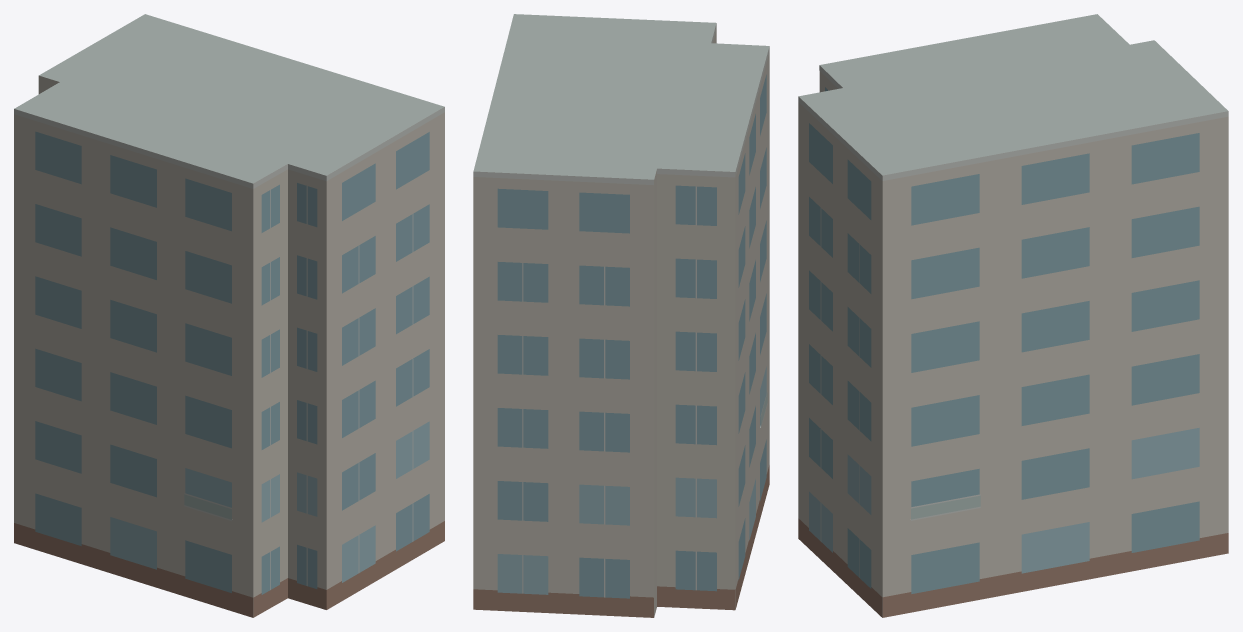
Rendered from survey-upis-32842401.glb.
3 views of the same model, side by side, from view 1: azimuth 30°, elevation 25°; view 2: azimuth 150°, elevation 25°; view 3: azimuth 270°, elevation 25° (orthographic).
Visible parts, largest first — view 1: survey-upis-32842401.tmp; view 2: survey-upis-32842401.tmp; view 3: survey-upis-32842401.tmp.
Boxes of the visible parts, <box> form: survey-upis-32842401.tmp: <box>14,14,444,617</box>; survey-upis-32842401.tmp: <box>473,14,769,617</box>; survey-upis-32842401.tmp: <box>798,14,1228,617</box>.
Bounding box in the file's own units: 15.37 × 19.6 × 17.29.
